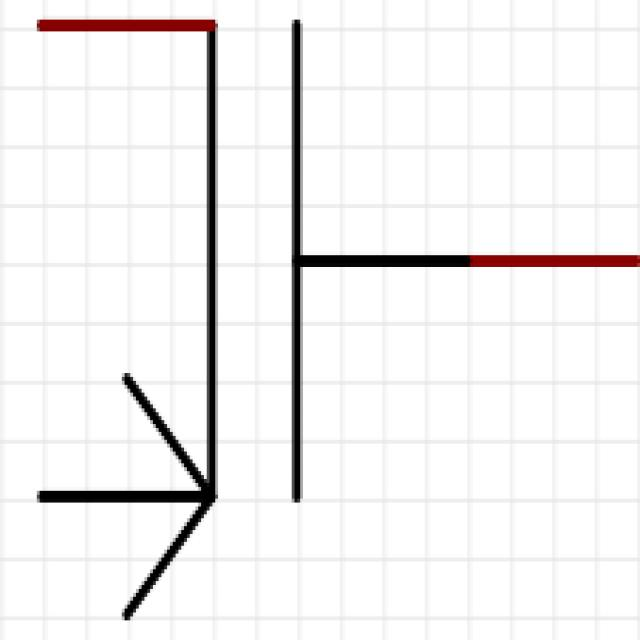pmos: (34, 4, 604, 603)
